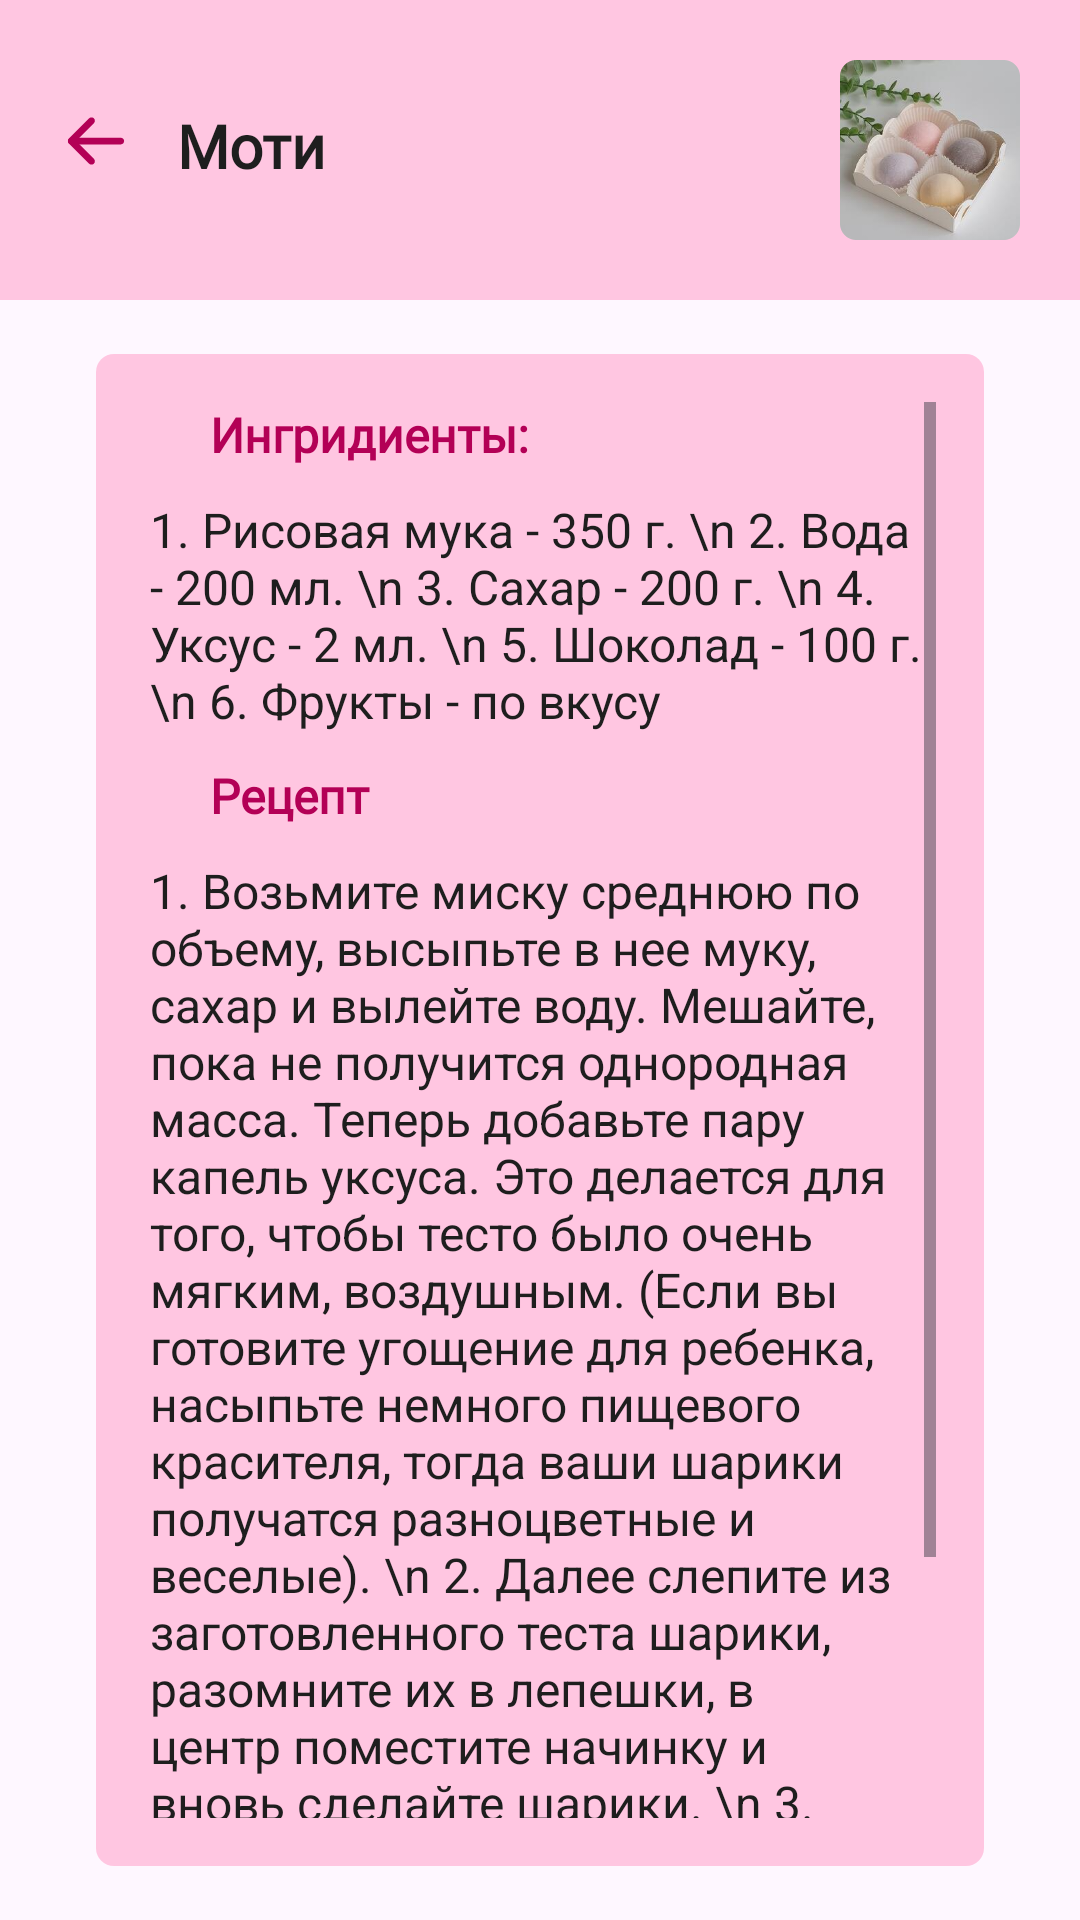

Point at icon controls on the screen. Image size 1080 × 1920, points as (x=x, y=y).
second back: (x=96, y=141)
